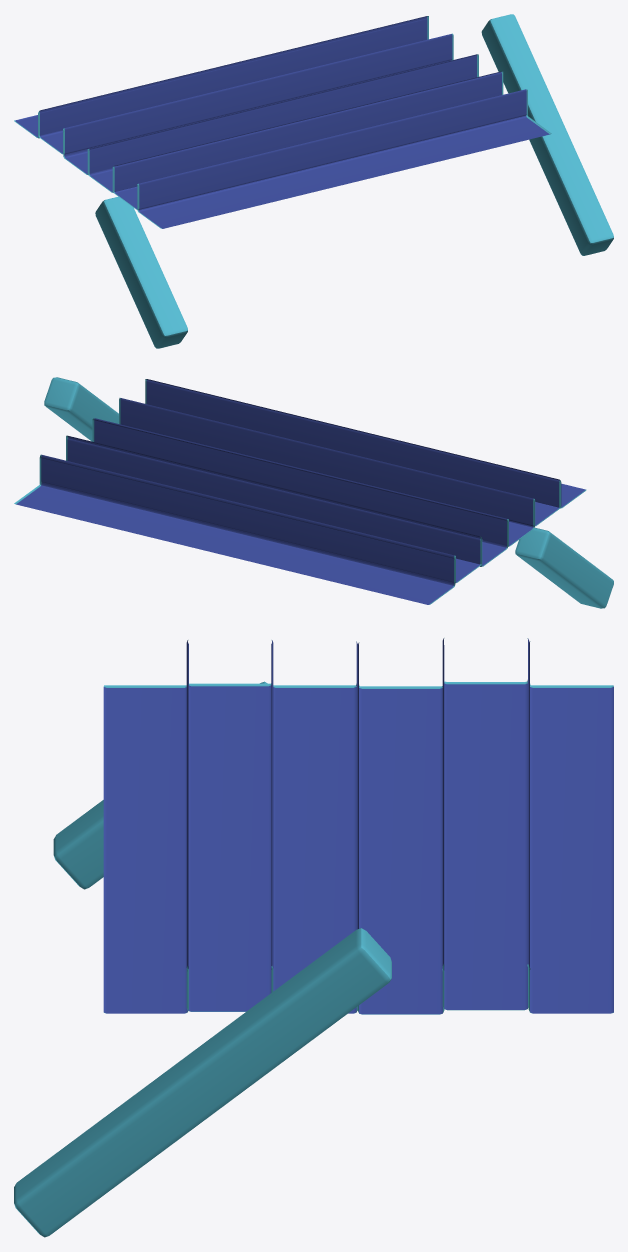
Rendered from SM_Hous2Floor_2Floor.fbx.
3 views of the same model, one above another, from view 1: azimuth 30°, elevation 25°; view 2: azimuth 150°, elevation 25°; view 3: azimuth 270°, elevation 25° (orthographic). The views are drawn at different scales.
Visible parts, largest first — view 1: SM_Hous2Floor_2Floor; view 2: SM_Hous2Floor_2Floor; view 3: SM_Hous2Floor_2Floor.
Boxes of the visible parts, x1=… form: SM_Hous2Floor_2Floor: x1=14, y1=14, x2=613, y2=348; SM_Hous2Floor_2Floor: x1=14, y1=377, x2=613, y2=608; SM_Hous2Floor_2Floor: x1=14, y1=638, x2=613, y2=1237.
Bounding box in the file's own units: 3.34 × 1.23 × 2.29.
